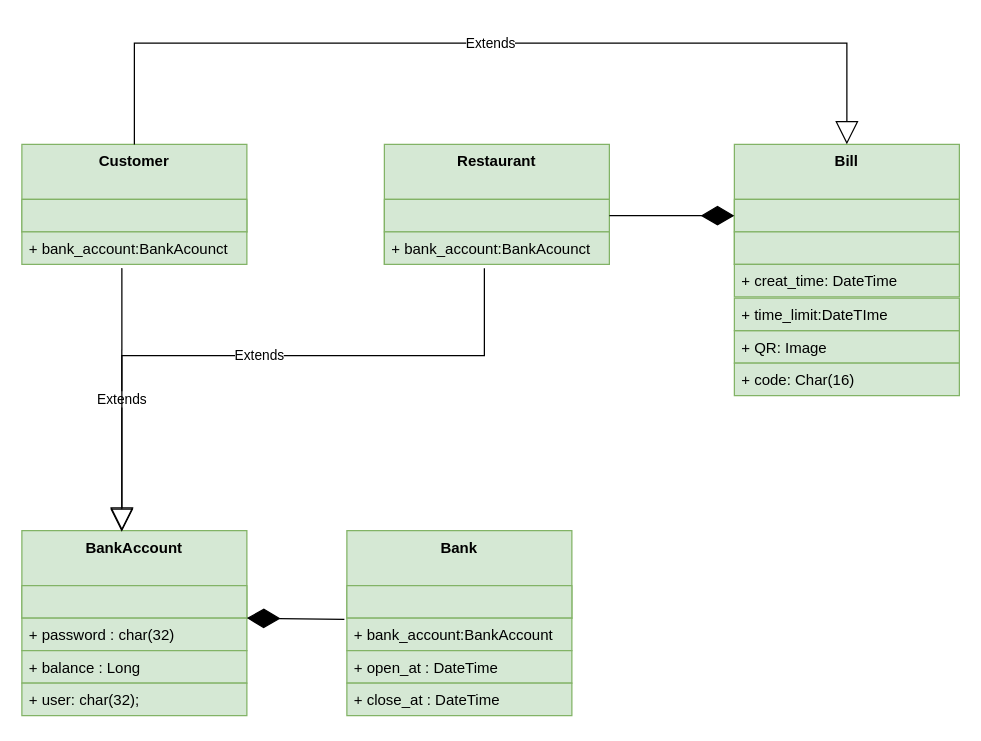
Some shapes in this 981 by 741 pixel diagram are drawn without their labels. Each missing label, with the centre of its shape:
"+ bill :Bill" goes at (134,215).
"+ bill: Bill" goes at (496,215).
"+ money: Long" goes at (846,215).
"+ name: Text" goes at (459,601).
"+ pay_time: DateTime" goes at (846,247).
"+ user: char(32)" goes at (134,601).
